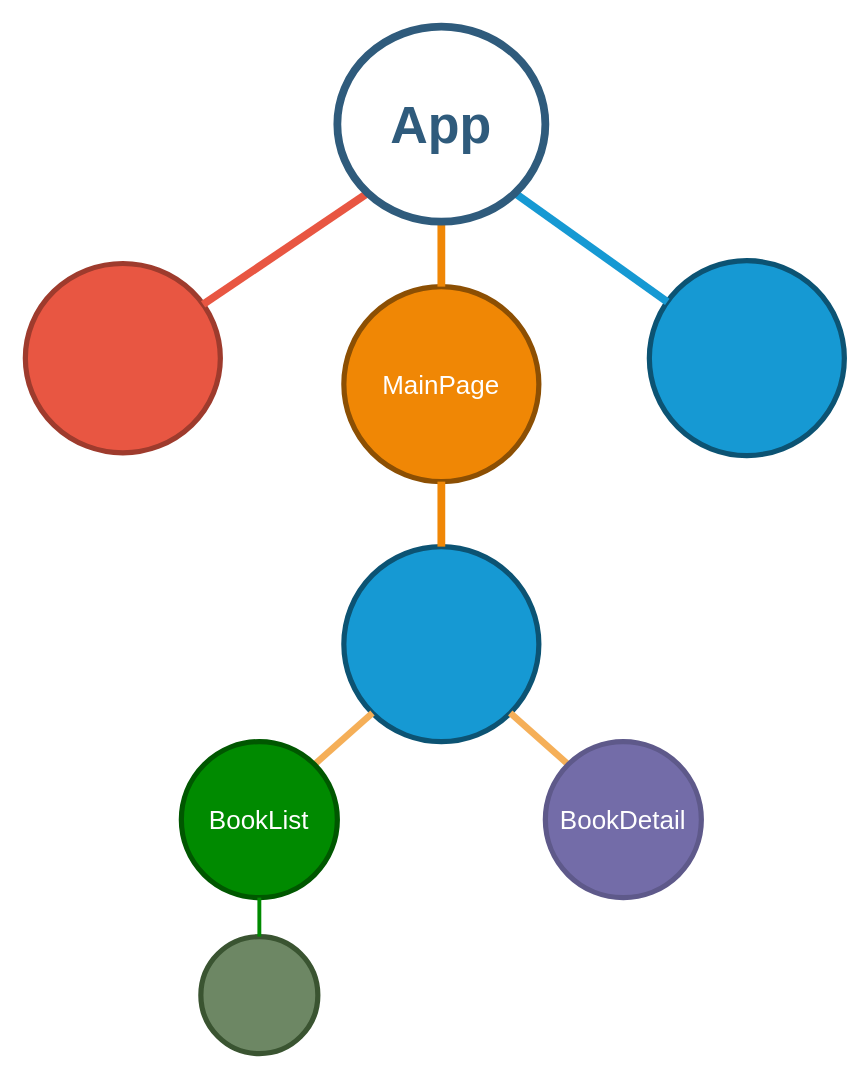
The diagram is 868 pixels wide and 1078 high, and some of its shapes have lost their labels. The centre of each missing label's shape, as x and y in pixels:
Book: pixel 259 994
HomePage (for teacher): pixel 441 643
